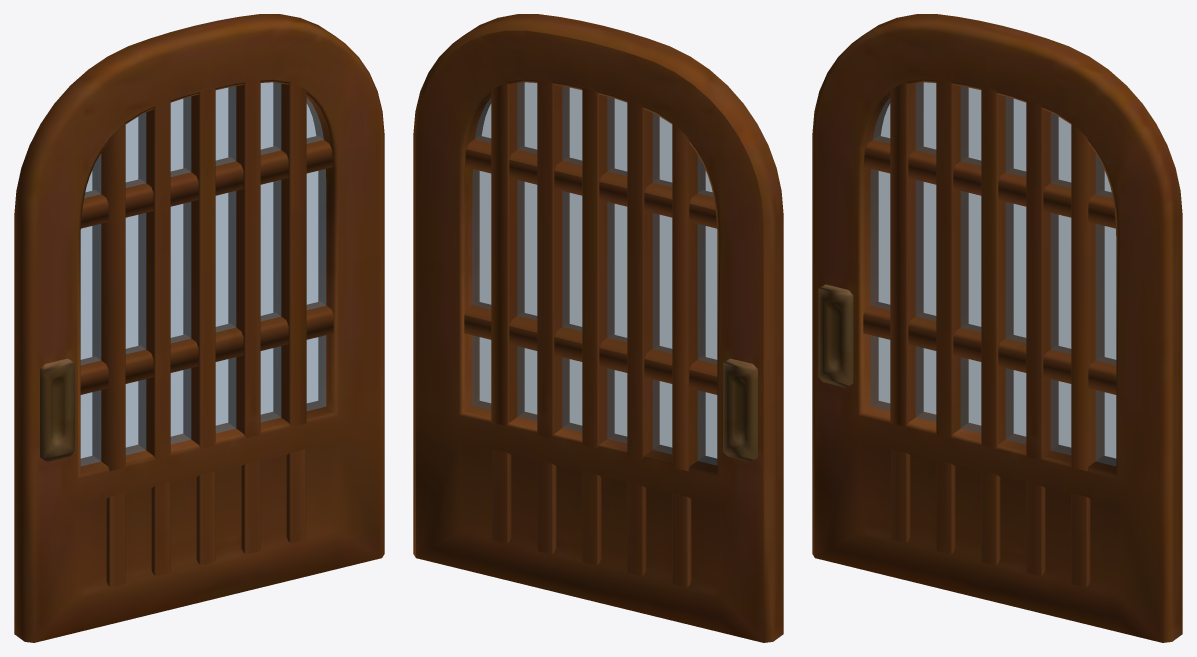
File: door-lattice-r.glb
3 renders of one model, left to right at view 1: azimuth 30°, elevation 25°; view 2: azimuth 150°, elevation 25°; view 3: azimuth 330°, elevation 25°, orthographic.
Size of the model in its own units: 12 by 18 by 1.29.
2 materials, 1 textured.
